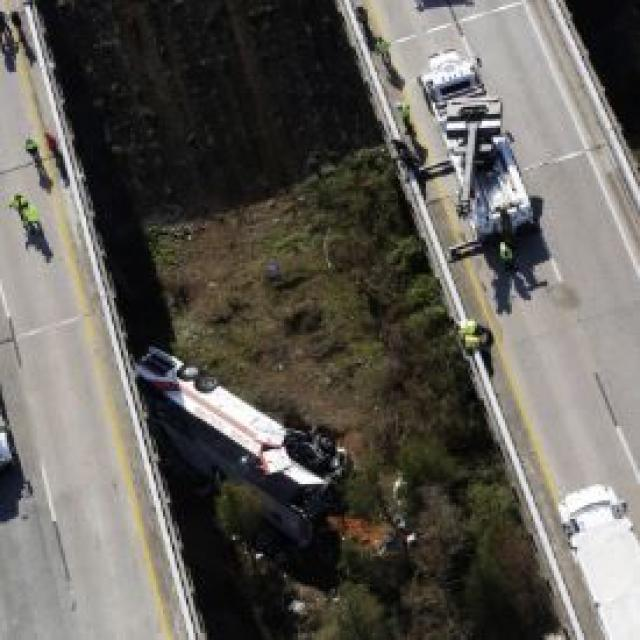traffic_incident: (121, 326, 347, 565)
